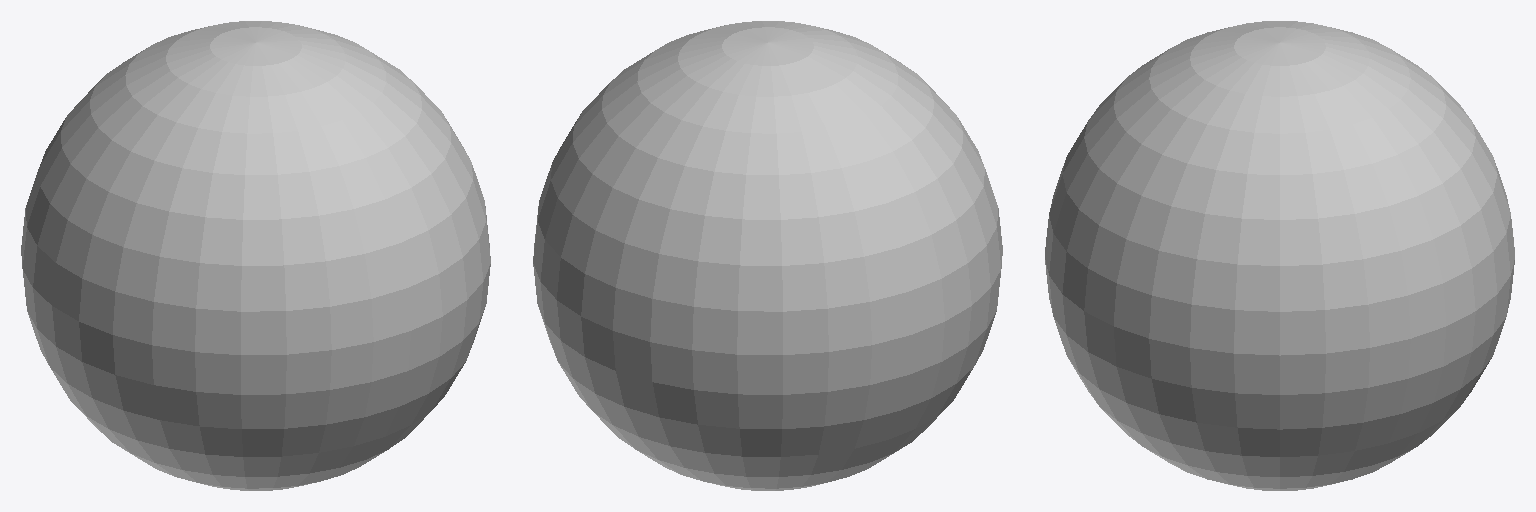
File: particle.obj
3 renders of one model, left to right at view 1: azimuth 30°, elevation 25°; view 2: azimuth 150°, elevation 25°; view 3: azimuth 270°, elevation 25°, orthographic.
Visible parts, largest first — view 1: 球; view 2: 球; view 3: 球.
Part boxes in pixels (x1,y1,x2,y2): 球: (21,21,490,490); 球: (533,21,1002,490); 球: (1045,21,1514,490).
Size of the model in its own units: 1.06 by 1.06 by 1.06.